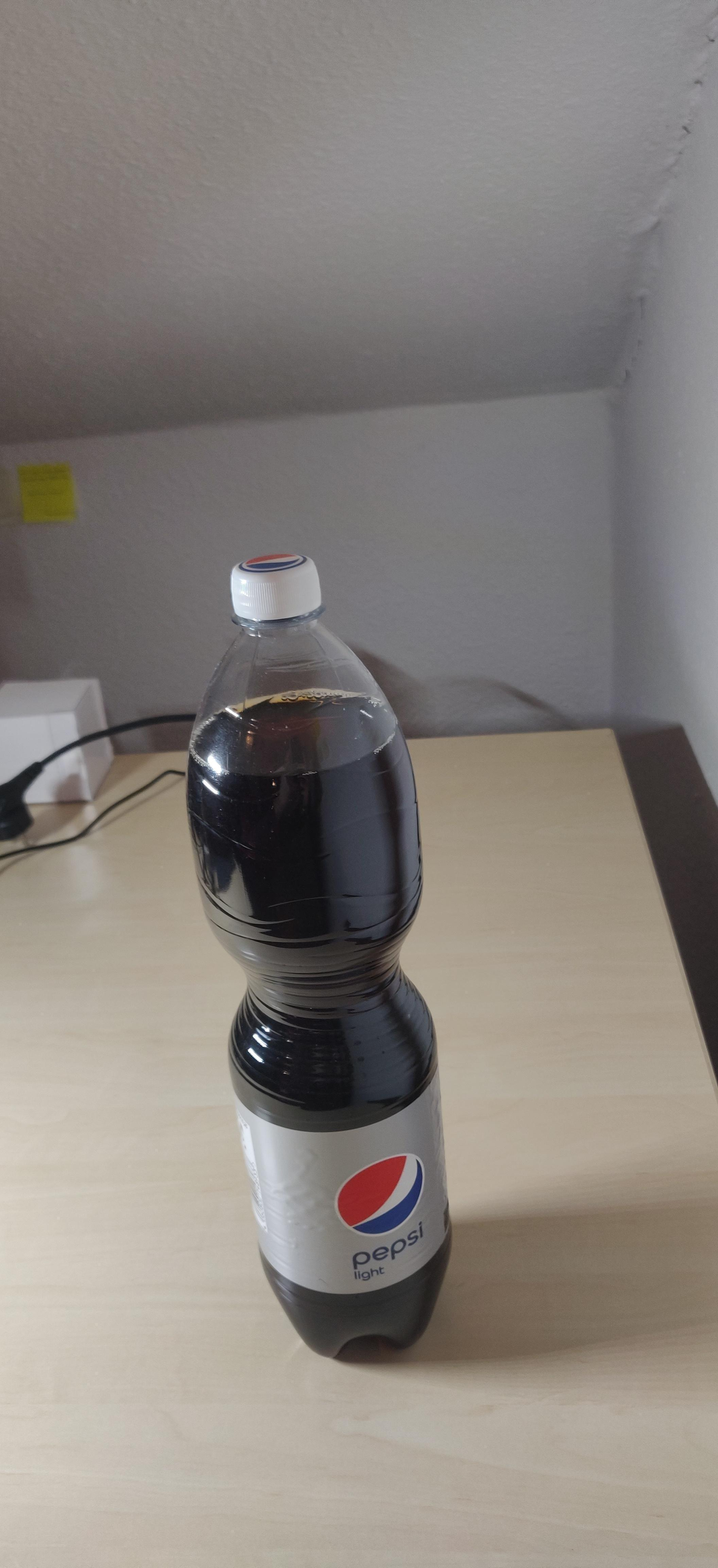bottle-plastic: (184, 551, 457, 1357)
